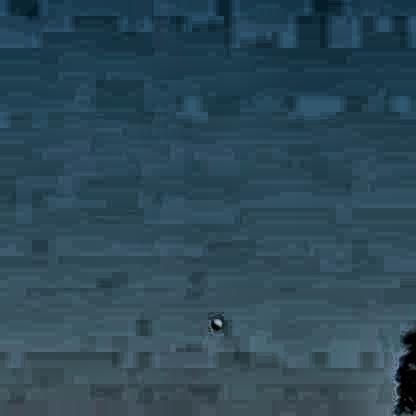golfball: (206, 315, 220, 327)
